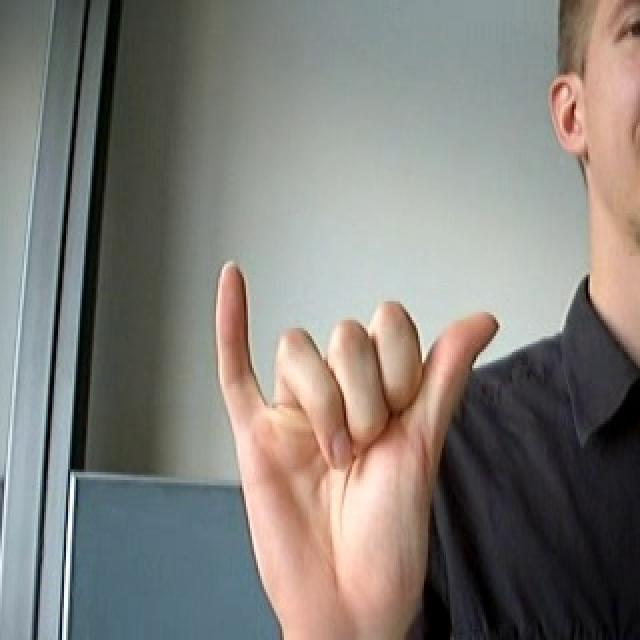Y: (194, 254, 509, 640)
